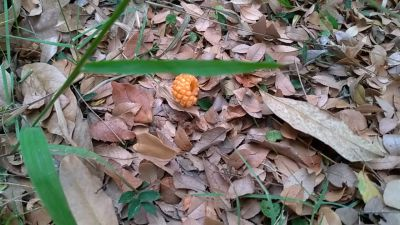eggs: (169, 66, 200, 110)
